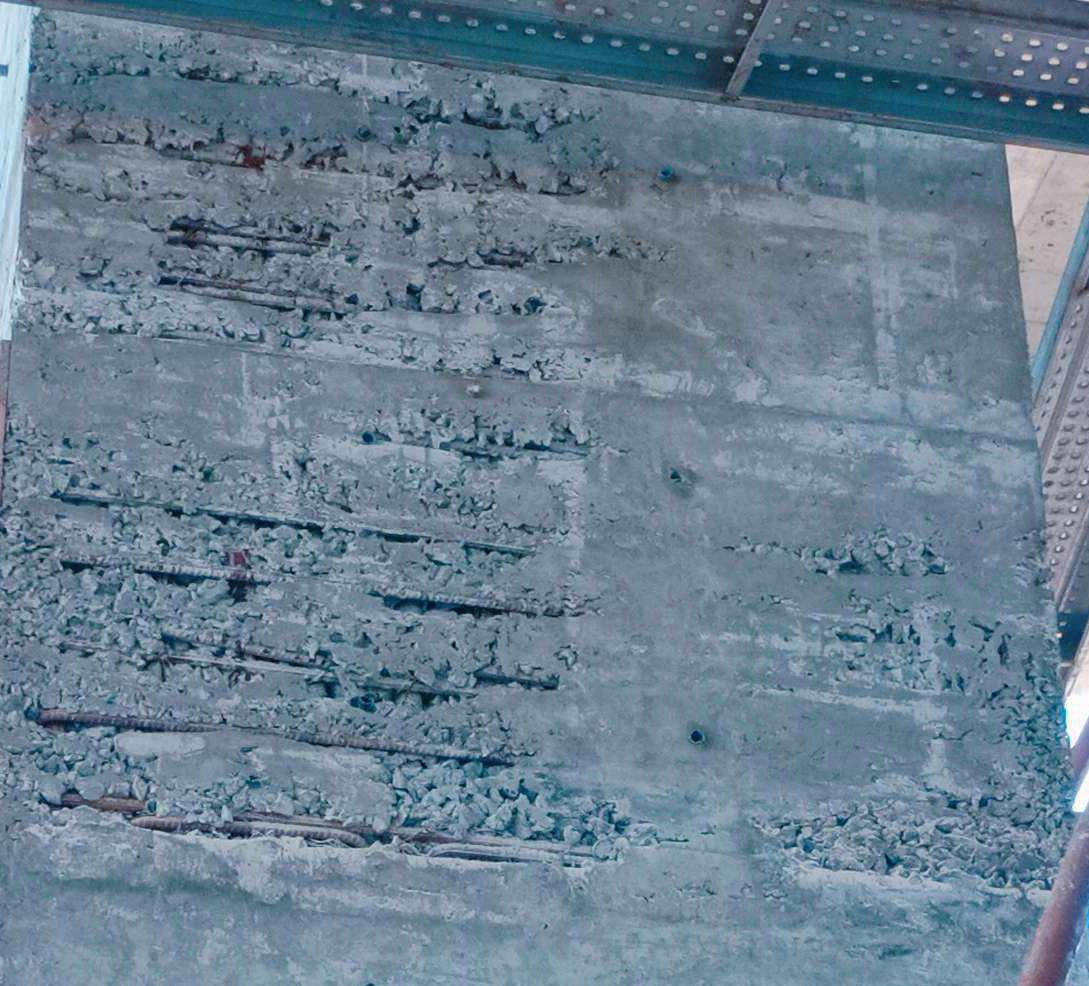Exposed reinforcement: (61, 485, 534, 558), (58, 552, 566, 618), (37, 707, 516, 768), (63, 638, 477, 700), (233, 807, 595, 856), (136, 617, 341, 671), (128, 815, 369, 849), (161, 267, 338, 300), (180, 282, 359, 313), (401, 432, 586, 460), (174, 217, 331, 247), (426, 841, 603, 867), (165, 228, 330, 255), (158, 141, 280, 169), (60, 791, 148, 814), (472, 670, 558, 691), (483, 252, 528, 266)
Spalling: (1, 13, 694, 884), (719, 516, 1076, 894)
